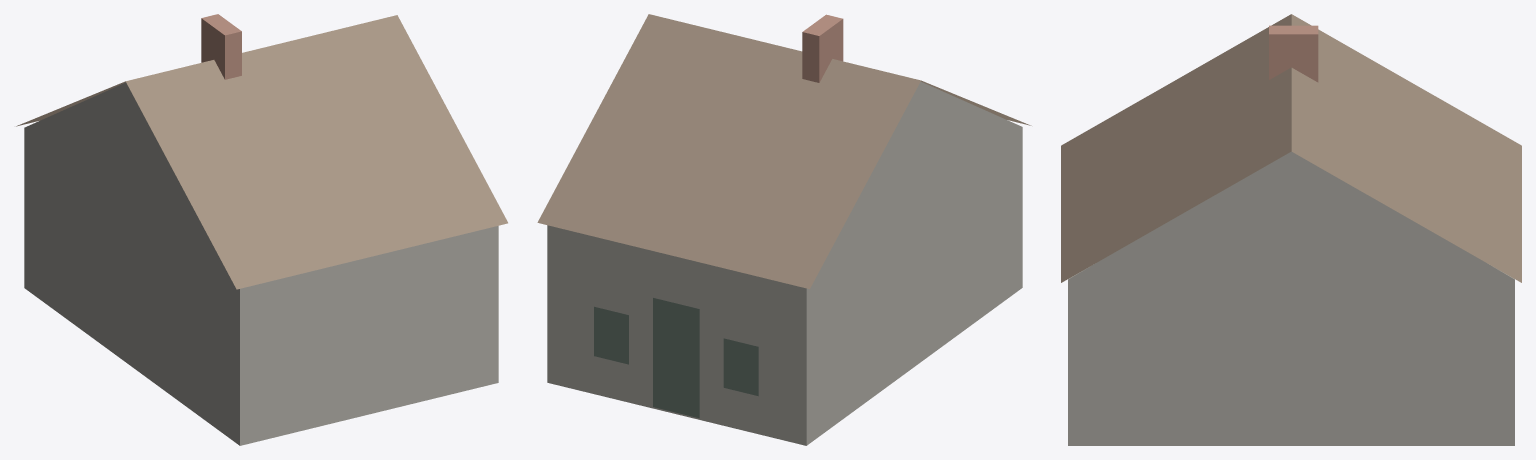
The model's file is recon_1835_north_c1_020__recommended_1835.glb.
The picture shows the model from 3 angles, left to right: view 1: azimuth 30°, elevation 25°; view 2: azimuth 150°, elevation 25°; view 3: azimuth 270°, elevation 25°; orthographic projection. The views are drawn at different scales.
Visible parts, largest first — view 1: recon_1835_north_c1_020__recommended_1835; view 2: recon_1835_north_c1_020__recommended_1835; view 3: recon_1835_north_c1_020__recommended_1835.
Boxes of the visible parts, x1=… form: recon_1835_north_c1_020__recommended_1835: x1=16, y1=14, x2=507, y2=445; recon_1835_north_c1_020__recommended_1835: x1=537, y1=14, x2=1031, y2=445; recon_1835_north_c1_020__recommended_1835: x1=1061, y1=14, x2=1521, y2=445.
Size of the model in its own units: 5.77 by 6.47 by 8.17.
